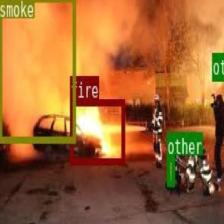fire: (69, 98, 124, 164)
smoke: (0, 0, 75, 141)
